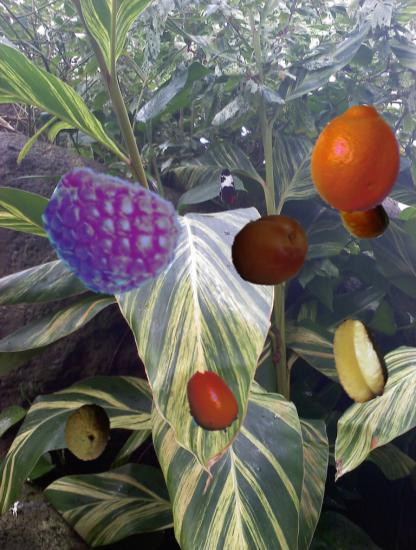Apricot: (230, 210, 311, 291)
Carambula: (316, 318, 401, 403)
Kaki: (177, 368, 246, 437)
Nut: (337, 190, 390, 243)
Papaya: (59, 403, 117, 461)
Raspberry: (41, 164, 180, 303)
Tangelo: (303, 104, 412, 213)
